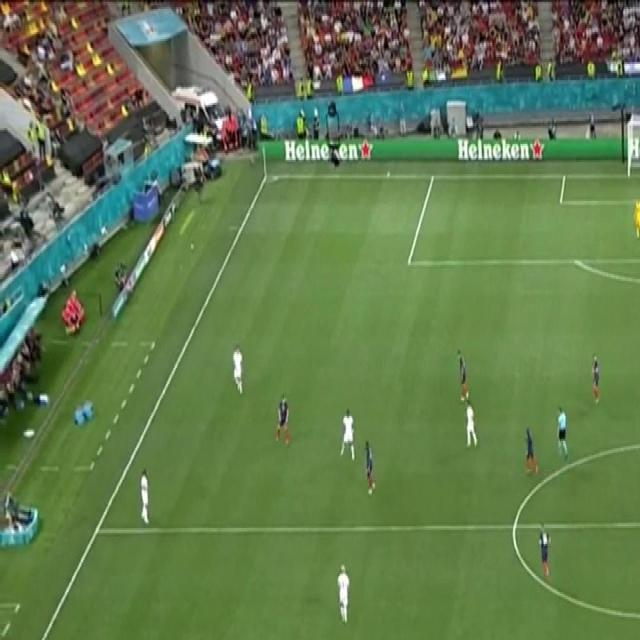player-white: (271, 390, 293, 450), (334, 560, 352, 626), (339, 403, 357, 465), (360, 437, 378, 499), (453, 344, 471, 406), (520, 424, 540, 479), (536, 516, 552, 583), (136, 464, 152, 530), (554, 404, 570, 466), (462, 396, 479, 454), (231, 338, 246, 400), (588, 349, 602, 406), (633, 194, 640, 240)
